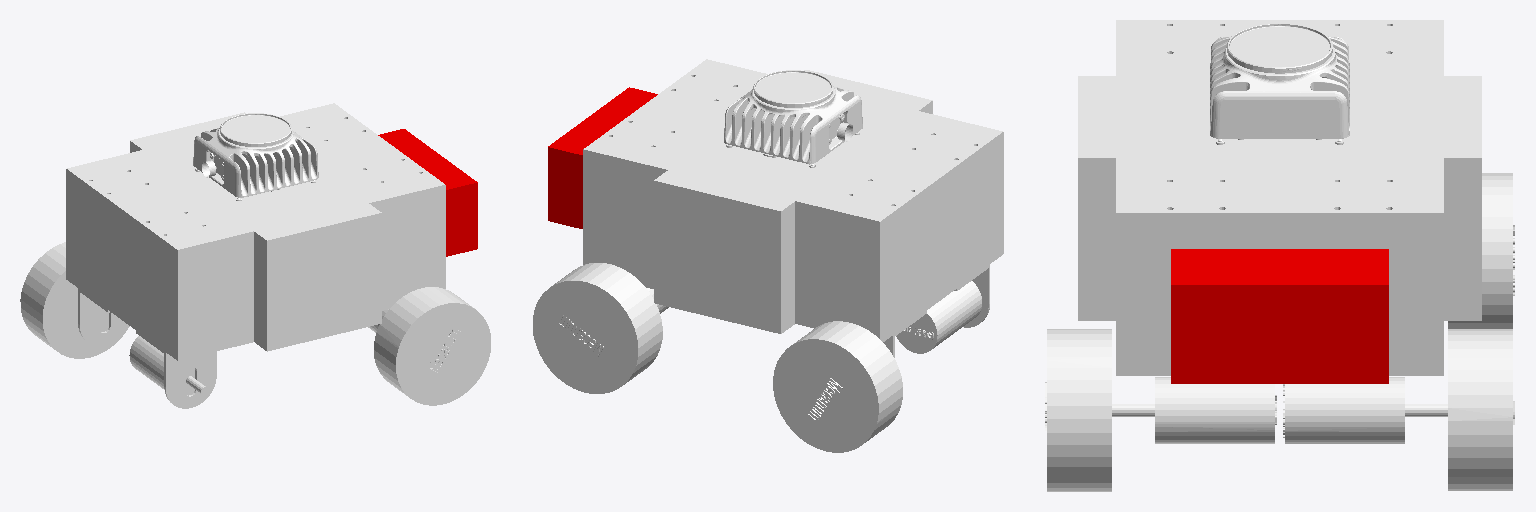
The robot description file, URDF, robot "ground_shark_mid360":
<?xml version="1.0" encoding="utf-8"?>
<!-- This URDF was automatically created by SolidWorks to URDF Exporter! Originally created by Stephen Brawner (brawner@gmail.com) 
     Commit Version: 1.6.0-4-g7f85cfe  Build Version: 1.6.7995.38578
     For more information, please see http://wiki.ros.org/sw_urdf_exporter -->
<!-- 强行将车轮joint锁死设为fixed了，并在base_link前添加了没有惯性的base_footprint以避免gazebo警告 -->
<robot name="ground_shark_mid360">

  <link name="base_footprint">
  </link>
  <joint name="footprint_to_base" type="fixed">
    <parent link="base_footprint"/>
    <child link="base_link"/>
    <origin xyz="0 0 0" rpy="0 0 0"/>
  </joint>

  <link name="base_link">
    <inertial>
      <origin xyz="2.58907190131552E-08 2.65764913097433E-08 0.041501286881111" rpy="0 0 0" />
      <mass value="2.88408104892143" />
      <inertia ixx="0.00850390921653607" ixy="-1.35978505114286E-10" ixz="-3.11887110384155E-09" iyy="0.0114346915701379" iyz="-3.34239705459834E-09" izz="0.0166269839660727" />
    </inertial>
    <visual>
      <origin xyz="0 0 0" rpy="0 0 0" />
      <geometry>
        <mesh filename="package://ground_shark_mid360/meshes/base_link.STL" />
      </geometry>
      <material name="">
        <color rgba="1 1 1 1" />
      </material>
    </visual>
    <collision>
      <origin xyz="0 0 0" rpy="0 0 0" />
      <geometry>
        <mesh filename="package://ground_shark_mid360/meshes/base_link.STL" />
      </geometry>
    </collision>
  </link>
  <link name="lidar_link">
    <inertial>
      <origin xyz="-0.000199554712715849 -6.38245507999721E-06 -0.0174673987069298" rpy="0 0 0" />
      <mass value="0.141887202110515" />
      <inertia ixx="4.17976340860606E-05" ixy="-5.6242468293159E-09" ixz="3.05339161654429E-07" iyy="4.5077236165051E-05" iyz="-4.50333967050321E-10" izz="6.87996344440103E-05" />
    </inertial>
    <visual>
      <origin xyz="0 0 0" rpy="0 0 0" />
      <geometry>
        <mesh filename="package://ground_shark_mid360/meshes/lidar_link.STL" />
      </geometry>
      <material name="">
        <color rgba="1 1 1 1" />
      </material>
    </visual>
    <!-- <collision>
      <origin xyz="0 0 0" rpy="0 0 0" />
      <geometry>
        <mesh filename="package://ground_shark_mid360/meshes/lidar_link.STL" />
      </geometry>
    </collision> -->
  </link>
  <joint name="lidar_joint" type="fixed">
    <origin xyz="0 0 0.1224991" rpy="0 0 0" />
    <parent link="base_link" />
    <child link="lidar_link" />
    <axis xyz="0 0 0" />
  </joint>
  <link name="motorbracket_fl_link">
    <inertial>
      <origin xyz="-8.32667268468867E-17 0.0101809797663877 -0.00879428398855082" rpy="0 0 0" />
      <mass value="0.00608322105376719" />
      <inertia ixx="2.12921906667825E-06" ixy="4.34590982308202E-21" ixz="-3.68947801335886E-21" iyy="1.91083611877142E-06" iyz="6.15365329682498E-07" izz="1.8374939001096E-06" />
    </inertial>
    <visual>
      <origin xyz="0 0 0" rpy="0 0 0" />
      <geometry>
        <mesh filename="package://ground_shark_mid360/meshes/motorbracket_fl_link.STL" />
      </geometry>
      <material name="">
        <color rgba="1 1 1 1" />
      </material>
    </visual>
    <collision>
      <origin xyz="0 0 0" rpy="0 0 0" />
      <geometry>
        <mesh filename="package://ground_shark_mid360/meshes/motorbracket_fl_link.STL" />
      </geometry>
    </collision>
  </link>
  <joint name="motorbracket_fl_joint" type="fixed">
    <origin xyz="0.085 0.037991 -0.002" rpy="0 0 0" />
    <parent link="base_link" />
    <child link="motorbracket_fl_link" />
    <axis xyz="0 0 0" />
  </joint>
  <link name="motor_fl_link">
    <inertial>
      <origin xyz="-9.5265E-08 0.00049405 -3.2037E-07" rpy="0 0 0" />
      <mass value="0.042092" />
      <inertia ixx="1.3775E-05" ixy="-1.1406E-10" ixz="2.7188E-10" iyy="4.9901E-06" iyz="-3.8435E-10" izz="1.3775E-05" />
    </inertial>
    <visual>
      <origin xyz="0 0 0" rpy="0 0 0" />
      <geometry>
        <mesh filename="package://ground_shark_mid360/meshes/motor_fl_link.STL" />
      </geometry>
      <material name="">
        <color rgba="1 1 1 1" />
      </material>
    </visual>
    <collision>
      <origin xyz="0 0 0" rpy="0 0 0" />
      <geometry>
        <mesh filename="package://ground_shark_mid360/meshes/motor_fl_link.STL" />
      </geometry>
    </collision>
  </link>
  <joint name="motor_fl_joint" type="fixed">
    <origin xyz="0 -0.0079908 -0.0245" rpy="0 0 0" />
    <parent link="motorbracket_fl_link" />
    <child link="motor_fl_link" />
    <axis xyz="0 1 0" />
  </joint>
  <link name="wheel_fl_link">
    <inertial>
      <origin xyz="7.97822019962813E-07 -0.0149928345886679 3.37951445161799E-08" rpy="0 0 0" />
      <mass value="0.132597246667058" />
      <inertia ixx="5.65512745031579E-05" ixy="-1.64157204178127E-09" ixz="-2.49441876222743E-09" iyy="9.31961918555651E-05" iyz="-7.05944311659276E-11" izz="5.65547558595817E-05" />
    </inertial>
    <visual>
      <origin xyz="0 0 0" rpy="0 0 0" />
      <geometry>
        <mesh filename="package://ground_shark_mid360/meshes/wheel_fl_link.STL" />
      </geometry>
      <material name="">
        <color rgba="1 1 1 1" />
      </material>
    </visual>
    <collision>
      <origin xyz="0 0 0" rpy="0 0 0" />
      <geometry>
        <mesh filename="package://ground_shark_mid360/meshes/wheel_fl_link.STL" />
      </geometry>
    </collision>
  </link>
  <joint name="wheel_fl_joint" type="fixed">
    <origin xyz="0 0.0775 0" rpy="0 0 0" />
    <parent link="motor_fl_link" />
    <child link="wheel_fl_link" />
    <axis xyz="0 1 0" />
  </joint>
  <link name="motorbracket_fr_link">
    <inertial>
      <origin xyz="1.38777878078145E-17 -0.0101809797663875 -0.00879428398855099" rpy="0 0 0" />
      <mass value="0.00608322105376719" />
      <inertia ixx="2.12921906667825E-06" ixy="-1.10502270722204E-21" ixz="1.62613072741423E-21" iyy="1.91083611877144E-06" iyz="-6.15365329682496E-07" izz="1.83749390010959E-06" />
    </inertial>
    <visual>
      <origin xyz="0 0 0" rpy="0 0 0" />
      <geometry>
        <mesh filename="package://ground_shark_mid360/meshes/motorbracket_fr_link.STL" />
      </geometry>
      <material name="">
        <color rgba="1 1 1 1" />
      </material>
    </visual>
    <collision>
      <origin xyz="0 0 0" rpy="0 0 0" />
      <geometry>
        <mesh filename="package://ground_shark_mid360/meshes/motorbracket_fr_link.STL" />
      </geometry>
    </collision>
  </link>
  <joint name="motorbracket_fr_joint" type="fixed">
    <origin xyz="0.0850000000000002 -0.0379907704315111 -0.00200000000000059" rpy="0 0 0" />
    <parent link="base_link" />
    <child link="motorbracket_fr_link" />
    <axis xyz="0 0 0" />
  </joint>
  <link name="motor_fr_link">
    <inertial>
      <origin xyz="-2.59720585274459E-07 -0.000494051151757506 -2.10380500881291E-07" rpy="0 0 0" />
      <mass value="0.042092392420595" />
      <inertia ixx="1.37744183750105E-05" ixy="3.11673267195815E-10" ixz="-3.14165930816589E-11" iyy="4.99008312109064E-06" iyz="2.52185897613015E-10" izz="1.3775251827675E-05" />
    </inertial>
    <visual>
      <origin xyz="0 0 0" rpy="0 0 0" />
      <geometry>
        <mesh filename="package://ground_shark_mid360/meshes/motor_fr_link.STL" />
      </geometry>
      <material name="">
        <color rgba="1 1 1 1" />
      </material>
    </visual>
    <collision>
      <origin xyz="0 0 0" rpy="0 0 0" />
      <geometry>
        <mesh filename="package://ground_shark_mid360/meshes/motor_fr_link.STL" />
      </geometry>
    </collision>
  </link>
  <joint name="motor_fr_joint" type="fixed">
    <origin xyz="0 0.0079908 -0.0245" rpy="0 0 0" />
    <parent link="motorbracket_fr_link" />
    <child link="motor_fr_link" />
    <axis xyz="0 -1 0" />
  </joint>
  <link name="wheel_fr_link">
    <inertial>
      <origin xyz="1.31517531073988E-07 0.014992834588668 7.87632672305527E-07" rpy="0 0 0" />
      <mass value="0.132597246667058" />
      <inertia ixx="5.65540953281575E-05" ixy="2.71656748702298E-10" ixz="-2.84347824250465E-09" iyy="9.31961918555652E-05" iyz="1.62047676730197E-09" izz="5.65519350345821E-05" />
    </inertial>
    <visual>
      <origin xyz="0 0 0" rpy="0 0 0" />
      <geometry>
        <mesh filename="package://ground_shark_mid360/meshes/wheel_fr_link.STL" />
      </geometry>
      <material name="">
        <color rgba="1 1 1 1" />
      </material>
    </visual>
    <collision>
      <origin xyz="0 0 0" rpy="0 0 0" />
      <geometry>
        <mesh filename="package://ground_shark_mid360/meshes/wheel_fr_link.STL" />
      </geometry>
    </collision>
  </link>
  <joint name="wheel_fr_joint" type="fixed">
    <origin xyz="0 -0.0775 0" rpy="0 0 0" />
    <parent link="motor_fr_link" />
    <child link="wheel_fr_link" />
    <axis xyz="0 -1 0" />
  </joint>
  <link name="motorbracket_bl_link">
    <inertial>
      <origin xyz="-5.55111512312578E-17 0.0101809797663877 -0.00879428398855093" rpy="0 0 0" />
      <mass value="0.00608322105376719" />
      <inertia ixx="2.12921906667825E-06" ixy="3.03573452606615E-21" ixz="-3.29832464622636E-21" iyy="1.91083611877142E-06" iyz="6.153653296825E-07" izz="1.8374939001096E-06" />
    </inertial>
    <visual>
      <origin xyz="0 0 0" rpy="0 0 0" />
      <geometry>
        <mesh filename="package://ground_shark_mid360/meshes/motorbracket_bl_link.STL" />
      </geometry>
      <material name="">
        <color rgba="1 1 1 1" />
      </material>
    </visual>
    <collision>
      <origin xyz="0 0 0" rpy="0 0 0" />
      <geometry>
        <mesh filename="package://ground_shark_mid360/meshes/motorbracket_bl_link.STL" />
      </geometry>
    </collision>
  </link>
  <joint name="motorbracket_bl_joint" type="fixed">
    <origin xyz="-0.0850000000000002 0.0379907704315112 -0.00199999999999938" rpy="0 0 0" />
    <parent link="base_link" />
    <child link="motorbracket_bl_link" />
    <axis xyz="0 0 0" />
  </joint>
  <link name="motor_bl_link">
    <inertial>
      <origin xyz="-9.52647042362642E-08 0.000494051151757761 -3.20373802972784E-07" rpy="0 0 0" />
      <mass value="0.0420923924205944" />
      <inertia ixx="1.37751524776011E-05" ixy="-1.14064183836825E-10" ixz="2.71882601070877E-10" iyy="4.99008312109062E-06" iyz="-3.84353111614289E-10" izz="1.37745177250838E-05" />
    </inertial>
    <visual>
      <origin xyz="0 0 0" rpy="0 0 0" />
      <geometry>
        <mesh filename="package://ground_shark_mid360/meshes/motor_bl_link.STL" />
      </geometry>
      <material name="">
        <color rgba="1 1 1 1" />
      </material>
    </visual>
    <collision>
      <origin xyz="0 0 0" rpy="0 0 0" />
      <geometry>
        <mesh filename="package://ground_shark_mid360/meshes/motor_bl_link.STL" />
      </geometry>
    </collision>
  </link>
  <joint name="motor_bl_joint" type="fixed">
    <origin xyz="0 -0.0079908 -0.0245" rpy="0 0 0" />
    <parent link="motorbracket_bl_link" />
    <child link="motor_bl_link" />
    <axis xyz="0 1 0" />
  </joint>
  <link name="wheel_bl_link">
    <inertial>
      <origin xyz="6.68215741628231E-08 -0.0149928345886679 -7.95736743344766E-07" rpy="0 0 0" />
      <mass value="0.132597246667058" />
      <inertia ixx="5.6554543362845E-05" ixy="-1.38547605071664E-10" ixz="2.62997090832959E-09" iyy="9.31961918555653E-05" iyz="1.63723758305458E-09" izz="5.6551486999895E-05" />
    </inertial>
    <visual>
      <origin xyz="0 0 0" rpy="0 0 0" />
      <geometry>
        <mesh filename="package://ground_shark_mid360/meshes/wheel_bl_link.STL" />
      </geometry>
      <material name="">
        <color rgba="1 1 1 1" />
      </material>
    </visual>
    <collision>
      <origin xyz="0 0 0" rpy="0 0 0" />
      <geometry>
        <mesh filename="package://ground_shark_mid360/meshes/wheel_bl_link.STL" />
      </geometry>
    </collision>
  </link>
  <joint name="wheel_bl_joint" type="fixed">
    <origin xyz="0 0.0775 0" rpy="0 0 0" />
    <parent link="motor_bl_link" />
    <child link="wheel_bl_link" />
    <axis xyz="0 1 0" />
  </joint>
  <link name="motorbracket_br_Link">
    <inertial>
      <origin xyz="0 -0.0101809797663876 -0.00879428398855096" rpy="0 0 0" />
      <mass value="0.00608322105376718" />
      <inertia ixx="2.12921906667825E-06" ixy="-1.349221184075E-21" ixz="2.06700336881217E-21" iyy="1.91083611877144E-06" iyz="-6.15365329682499E-07" izz="1.83749390010958E-06" />
    </inertial>
    <visual>
      <origin xyz="0 0 0" rpy="0 0 0" />
      <geometry>
        <mesh filename="package://ground_shark_mid360/meshes/motorbracket_br_Link.STL" />
      </geometry>
      <material name="">
        <color rgba="1 1 1 1" />
      </material>
    </visual>
    <collision>
      <origin xyz="0 0 0" rpy="0 0 0" />
      <geometry>
        <mesh filename="package://ground_shark_mid360/meshes/motorbracket_br_Link.STL" />
      </geometry>
    </collision>
  </link>
  <joint name="motorbracket_br_joint" type="fixed">
    <origin xyz="-0.0849999999999999 -0.0379907704315117 -0.00200000000000003" rpy="0 0 0" />
    <parent link="base_link" />
    <child link="motorbracket_br_Link" />
    <axis xyz="0 0 0" />
  </joint>
  <link name="motor_br_link">
    <inertial>
      <origin xyz="0.000494051151757456 -2.59720585260581E-07 -2.10380500881291E-07" rpy="0 0 0" />
      <mass value="0.0420923924205951" />
      <inertia ixx="4.99008312109064E-06" ixy="-3.11673267223406E-10" ixz="-2.52185897611746E-10" iyy="1.37744183750105E-05" iyz="-3.14165930811279E-11" izz="1.37752518276751E-05" />
    </inertial>
    <visual>
      <origin xyz="0 0 0" rpy="0 0 0" />
      <geometry>
        <mesh filename="package://ground_shark_mid360/meshes/motor_br_link.STL" />
      </geometry>
      <material name="">
        <color rgba="1 1 1 1" />
      </material>
    </visual>
    <collision>
      <origin xyz="0 0 0" rpy="0 0 0" />
      <geometry>
        <mesh filename="package://ground_shark_mid360/meshes/motor_br_link.STL" />
      </geometry>
    </collision>
  </link>
  <joint name="motor_br_joint" type="fixed">
    <origin xyz="0 0.0079908 -0.0245" rpy="0 0 -1.5708" />
    <parent link="motorbracket_br_Link" />
    <child link="motor_br_link" />
    <axis xyz="1 0 0" />
  </joint>
  <link name="wheel_br_link">
    <inertial>
      <origin xyz="-1.0631786313775E-05 0.014992834588668 -1.93041735137151E-05" rpy="0 0 0" />
      <mass value="0.132597246667058" />
      <inertia ixx="5.65514278169526E-05" ixy="-9.57536753019201E-10" ixz="-2.59467913345226E-09" iyy="9.31961918555651E-05" iyz="-1.33523994393109E-09" izz="5.6554602545787E-05" />
    </inertial>
    <visual>
      <origin xyz="0 0 0" rpy="0 0 0" />
      <geometry>
        <mesh filename="package://ground_shark_mid360/meshes/wheel_br_link.STL" />
      </geometry>
      <material name="">
        <color rgba="1 1 1 1" />
      </material>
    </visual>
    <collision>
      <origin xyz="0 0 0" rpy="0 0 0" />
      <geometry>
        <mesh filename="package://ground_shark_mid360/meshes/wheel_br_link.STL" />
      </geometry>
    </collision>
  </link>
  <joint name="wheel_br_joint" type="fixed">
    <origin xyz="0.0775 1.0167E-05 1.8655E-05" rpy="0 0 1.5708" />
    <parent link="motor_br_link" />
    <child link="wheel_br_link" />
    <axis xyz="0 -1 0" />
  </joint>
  <link name="imu_link">
    <inertial>
      <origin xyz="0 0 0" rpy="0 0 0" />
      <mass value="0.02" />
      <inertia ixx="1.33e-7" ixy="0.0" ixz="0.0" iyy="1.33e-7" iyz="0.0" izz="1.33e-7" />
    </inertial>
    <visual>
      <origin xyz="0 0 0" rpy="0 0 0" />
      <geometry>
        <mesh filename="package://ground_shark_mid360/meshes/imu_link.STL" />
      </geometry>
      <material name="">
        <color rgba="1 1 1 1" />
      </material>
    </visual>
    <!-- <collision>
      <origin xyz="0 0 0" rpy="0 0 0" />
      <geometry>
        <mesh filename="package://ground_shark_mid360/meshes/imu_link.STL" />
      </geometry>
    </collision> -->
  </link>
  <joint name="imu_joint" type="fixed">
    <origin xyz="0 0 0.1224991" rpy="0 0 0" />
    <parent link="base_link" />
    <child link="imu_link" />
    <axis xyz="0 0 0" />
  </joint>

  <link name="camera_link">
        <inertial>
            <origin
                xyz="0 0 0"
                rpy="0 0 0" />
            <mass
                value="0.073513" />
            <inertia
                ixx="1e-5"
                ixy="0.0"
                ixz="0.0"
                iyy="1e-5"
                iyz="0.0"
                izz="1e-5" />
        </inertial>
        <visual>
            <origin
                xyz="0 0 0"
                rpy="0 0 0" />
            <geometry>
                <box size="0.05 0.1 0.05"></box>
            </geometry>
            <material
                name="red">
                <color
                    rgba="1 0 0 1" />
            </material>
        </visual>
        <collision>
            <origin
                xyz="0 0 0"
                rpy="0 0 0" />
            <geometry>
                <box size="0.1 0.05 0.05"></box>
            </geometry>
        </collision>
    </link>
    <joint
        name="camera_joint"
        type="fixed">
        <origin
            xyz="0.12 0 0.04"
            rpy="0 0 0" />
        <parent
            link="base_link" />
        <child
            link="camera_link" />
        <axis
            xyz="0 0 0" />
    </joint>
</robot>

--- Render facts (derived) ---
Views: 3 orthographic renders of the robot side by side, from view 1: azimuth 30°, elevation 25°; view 2: azimuth 150°, elevation 25°; view 3: azimuth 270°, elevation 25°.
Model ground_shark_mid360 with 17 links and 16 joints (16 fixed), rooted at base_footprint, posed every joint at zero.
Visible links, largest first — view 1: base_link, wheel_fr_link, imu_link, wheel_bl_link, camera_link, motorbracket_br_Link, motor_br_link, motorbracket_bl_link; view 2: base_link, wheel_bl_link, wheel_fl_link, imu_link, camera_link, motor_br_link, motorbracket_br_Link; view 3: base_link, camera_link, imu_link, wheel_fr_link, wheel_fl_link, motor_fl_link, motor_fr_link, wheel_bl_link.
Boxes of the visible links, box(x1,y1,x2,y2) form: base_link: box(66, 103, 445, 360); wheel_fr_link: box(374, 287, 490, 405); imu_link: box(193, 113, 318, 200); wheel_bl_link: box(20, 242, 129, 358); camera_link: box(378, 129, 477, 256); motorbracket_br_Link: box(136, 331, 216, 408); motor_br_link: box(129, 336, 207, 395); motorbracket_bl_link: box(78, 288, 127, 345); base_link: box(583, 59, 1003, 341); wheel_bl_link: box(773, 321, 902, 452); wheel_fl_link: box(533, 263, 662, 393); imu_link: box(724, 70, 862, 167); camera_link: box(548, 87, 657, 228); motor_br_link: box(896, 281, 981, 353); motorbracket_br_Link: box(954, 265, 989, 327); base_link: box(1078, 20, 1481, 375); camera_link: box(1171, 249, 1388, 383); imu_link: box(1210, 23, 1349, 144); wheel_fr_link: box(1045, 329, 1111, 491); wheel_fl_link: box(1448, 329, 1514, 490); motor_fl_link: box(1283, 377, 1447, 443); motor_fr_link: box(1112, 377, 1276, 443); wheel_bl_link: box(1448, 173, 1514, 328).
Size in the robot's own frame: 0.2674 by 0.217 by 0.1833 metres.
10 mesh visuals loaded from 15 distinct referenced files (10 binary STL); not drawn: 5 (reference not matched to a file when rendering).
